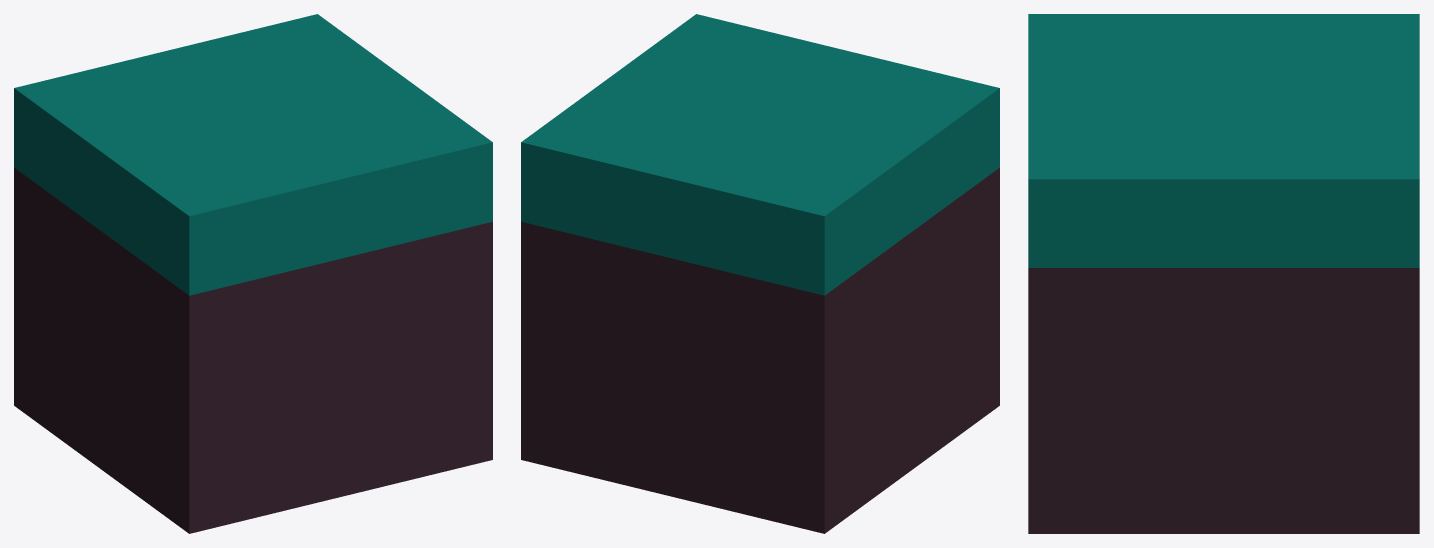
Rendered from corrupted-dirt-block-with-grass.glb.
3 renders of one model, left to right at view 1: azimuth 30°, elevation 25°; view 2: azimuth 150°, elevation 25°; view 3: azimuth 270°, elevation 25°, orthographic. The views are drawn at different scales.
Parts seen in each view (by area): view 1: generated(Clone); view 2: generated(Clone); view 3: generated(Clone).
Part boxes in pixels (x1,y1,x2,y2): generated(Clone): (14,14,492,533); generated(Clone): (521,14,999,533); generated(Clone): (1028,14,1419,533).
Size of the model in its own units: 8 by 8 by 8.
1 material, 1 textured.
